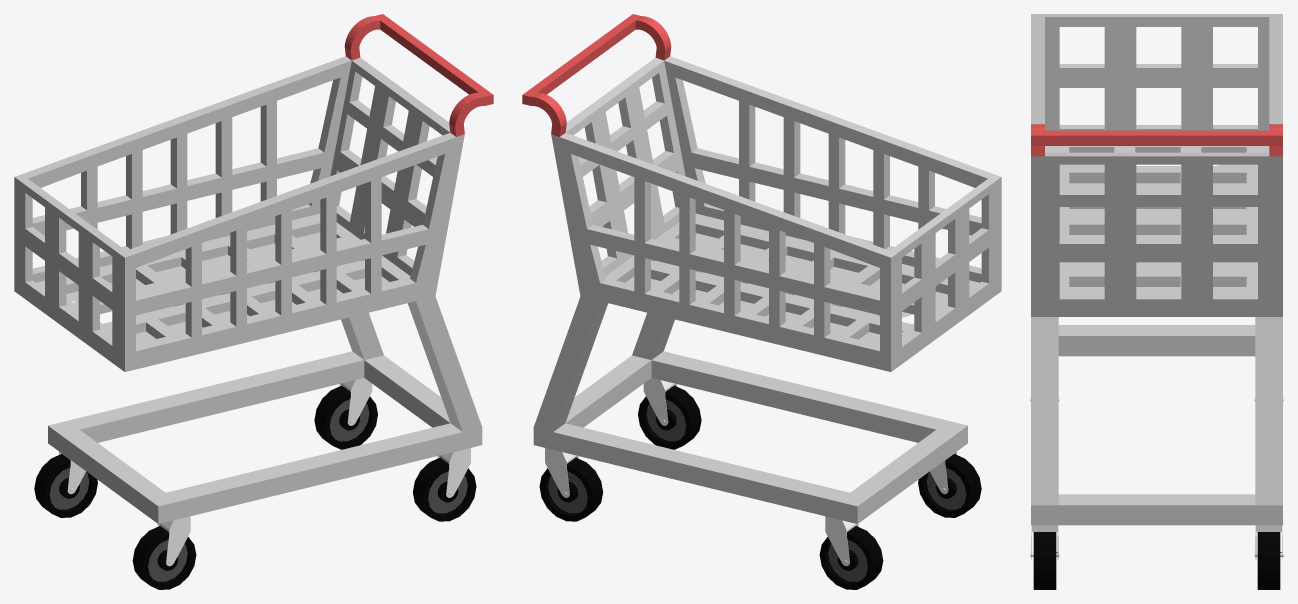
The model's file is cart.fbx.
The picture shows the model from 3 angles, left to right: view 1: azimuth 30°, elevation 25°; view 2: azimuth 150°, elevation 25°; view 3: azimuth 270°, elevation 25°; orthographic projection. The views are drawn at different scales.
Visible parts, largest first — view 1: Cart, Wheel, Wheel.001, Wheel.002, Wheel.003; view 2: Cart, Wheel.003, Wheel.002, Wheel.001, Wheel; view 3: Cart, Wheel.001, Wheel.002.
Boxes of the visible parts, box(x1,y1,x2,y2) form: Cart: box(14, 14, 493, 523); Wheel: box(132, 516, 196, 589); Wheel.001: box(413, 448, 476, 521); Wheel.002: box(314, 378, 377, 449); Wheel.003: box(34, 451, 97, 517); Cart: box(522, 14, 1001, 523); Wheel.003: box(819, 516, 883, 589); Wheel.002: box(539, 448, 603, 521); Wheel.001: box(638, 378, 701, 449); Wheel: box(918, 451, 981, 517); Cart: box(1031, 14, 1282, 525); Wheel.001: box(1030, 525, 1059, 589); Wheel.002: box(1254, 525, 1283, 589).
Bounding box in the file's own units: 411 × 444 × 214.
